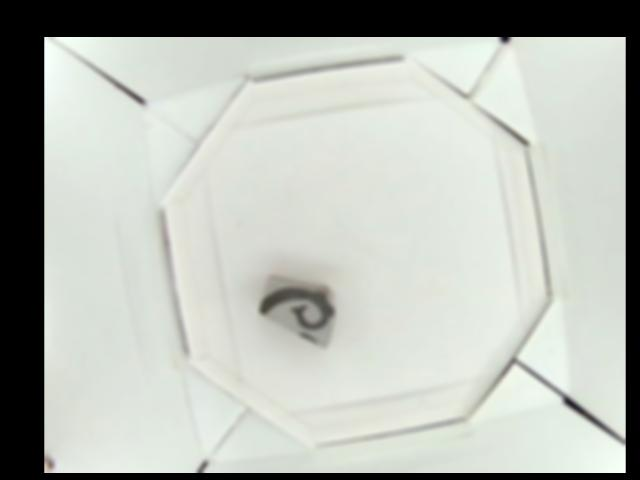China: (258, 274, 337, 347)
